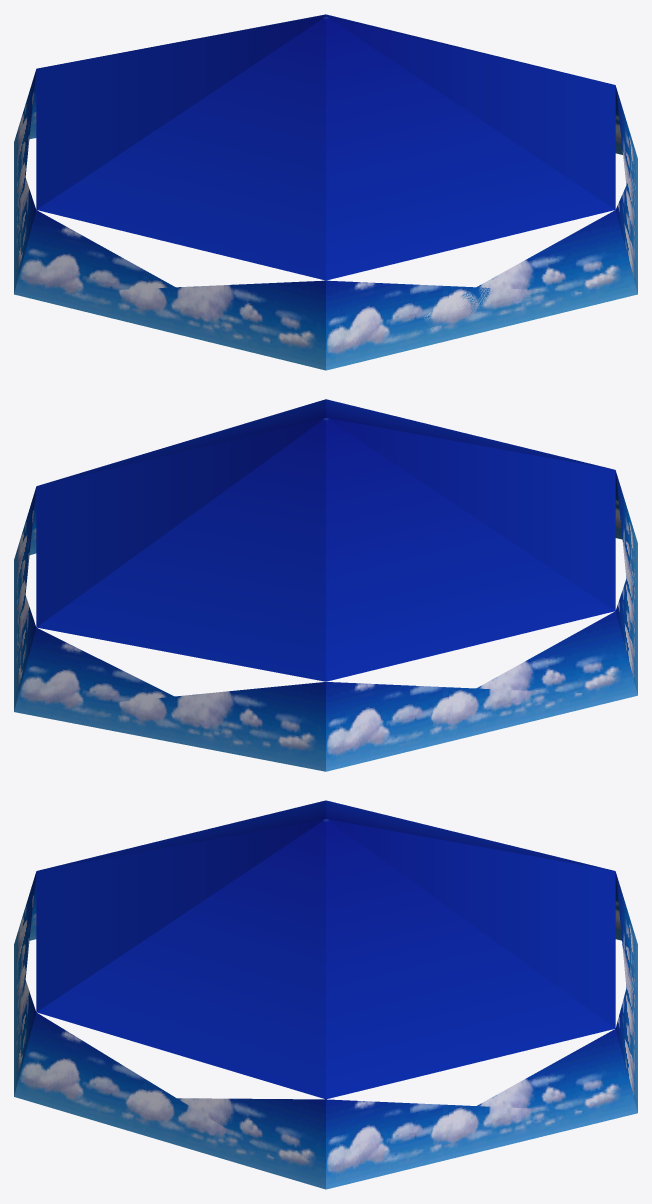
File: bank_course-bank_course_V.glb
3 renders of one model, top to bottom at view 1: azimuth 30°, elevation 25°; view 2: azimuth 150°, elevation 25°; view 3: azimuth 270°, elevation 25°, orthographic.
Visible parts, largest first — view 1: bank_course_V; view 2: bank_course_V; view 3: bank_course_V.
Boxes of the visible parts, x1,y1,x2,y2 form: bank_course_V: (14,14,637,370); bank_course_V: (14,399,637,771); bank_course_V: (14,800,637,1189).
Bounding box in the file's own units: 1159 × 387 × 1003.
1 material, 1 textured.
